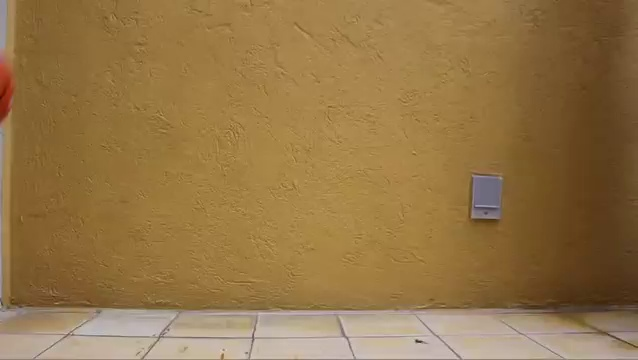ball: (1, 47, 13, 124)
